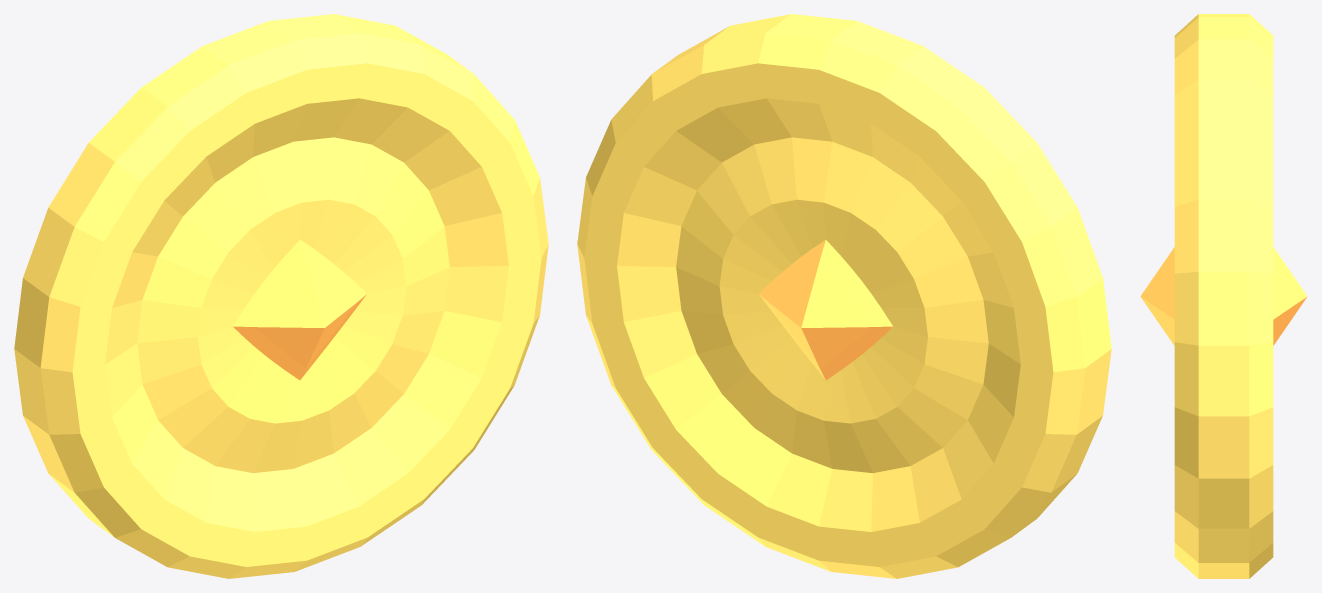
File: relic_coin.glb
3 views of the same model, side by side, from view 1: azimuth 30°, elevation 25°; view 2: azimuth 150°, elevation 25°; view 3: azimuth 270°, elevation 25° (orthographic). The views are drawn at different scales.
Parts seen in each view (by area): view 1: RelicCoinRim, RelicCoinCenter; view 2: RelicCoinRim, RelicCoinCenter; view 3: RelicCoinRim, RelicCoinCenter.
Boxes of the visible parts, x1,y1,x2,y2 form: RelicCoinRim: (14, 14, 548, 578); RelicCoinCenter: (233, 240, 367, 380); RelicCoinRim: (577, 14, 1111, 578); RelicCoinCenter: (758, 240, 892, 380); RelicCoinRim: (1174, 14, 1273, 578); RelicCoinCenter: (1140, 247, 1307, 345).
Bounding box in the file's own units: 0.78 × 0.78 × 0.23.
